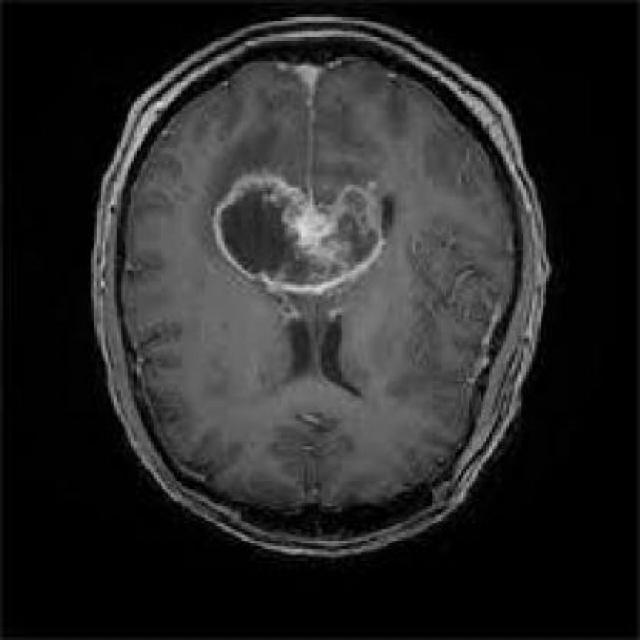Brain-Tumor: (203, 158, 425, 309)
